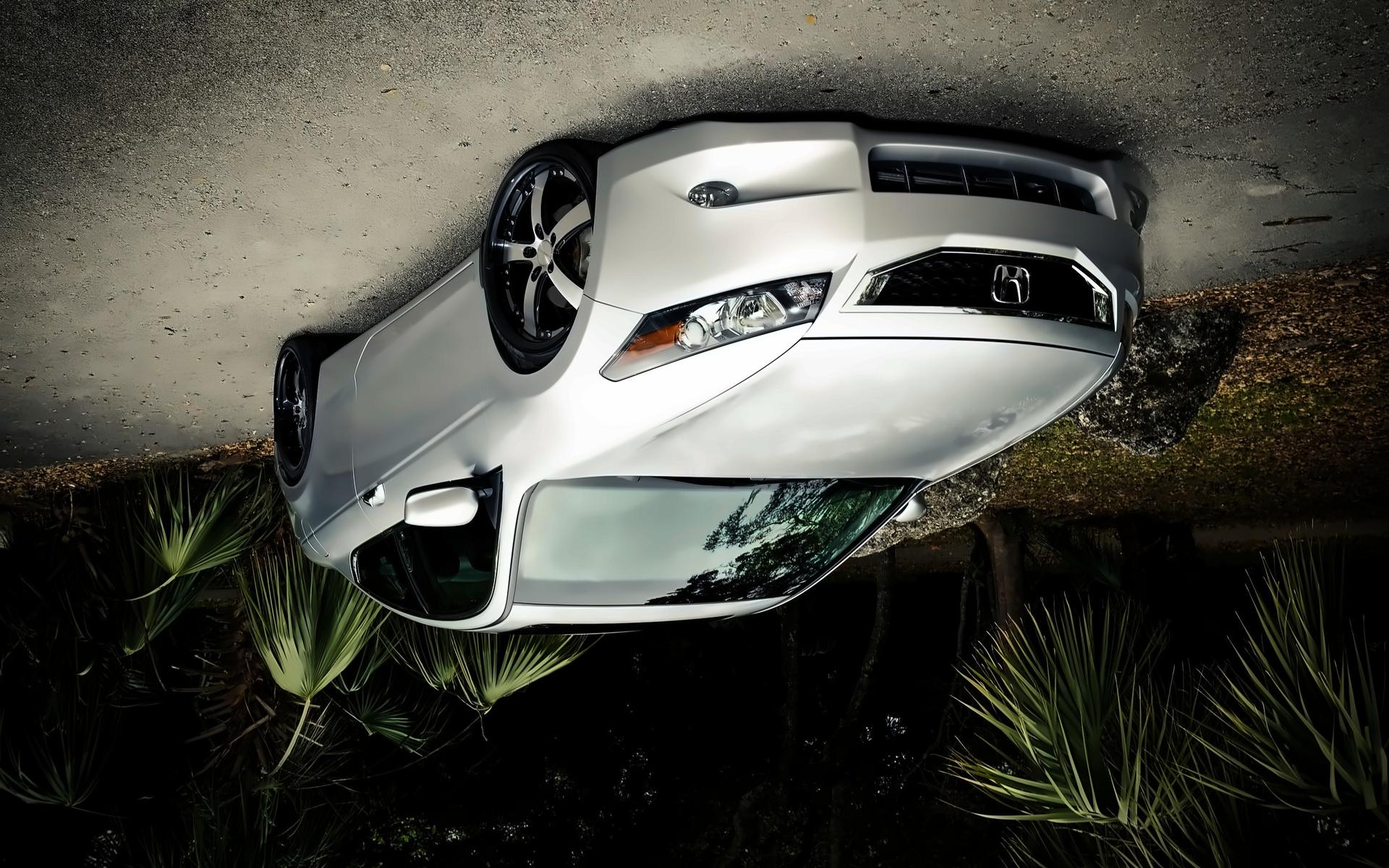Car hood: (538, 336, 1115, 500)
Fender - -F-L-: (454, 216, 661, 513)
Fender - -R-L-: (258, 297, 349, 633)
Front bumper: (566, 109, 1157, 322)
Headlight - -L-: (599, 271, 835, 386)
Passenger-s door - -F-L-: (344, 194, 514, 641)
Side mirror - -L-: (398, 479, 494, 531)
